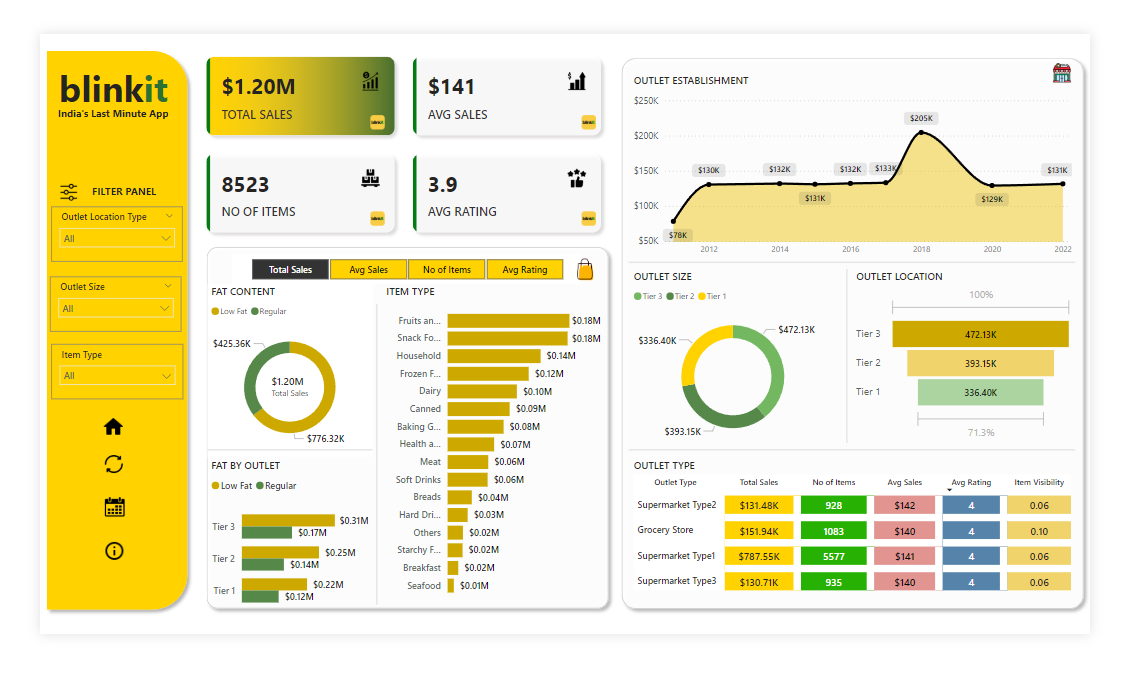

Layout of this report page (visuals, bound fields, positions):
{"tool":"powerbi","page":{"name":"Page 1","canvas":[1400,800],"ordinal":0},"visuals":[{"type":"shape","box":[0,12.7,205.6,763.4],"z":0},{"type":"textbox","box":[13.4,33.5,168.9,73.7],"z":1000},{"type":"textbox","box":[18.8,91.2,158.2,52.3],"z":2000},{"type":"textbox","box":[252,622,205.1,77.7],"z":3000},{"type":"cardVisual","fields":{"Data":["BlinkIT Grocery Data.Total Sales","BlinkIT Grocery Data.Avg Sales","BlinkIT Grocery Data.No of Items","BlinkIT Grocery Data.Avg Rating"]},"box":[205.6,12.7,560.6,269],"z":4000},{"type":"shape","box":[213.1,274.8,553.6,500],"z":5000},{"type":"donutChart","title":"FAT CONTENT","fields":{"Y":["BlinkIT Grocery Data.Total Sales"],"Category":["BlinkIT Grocery Data.Item Fat Content"]},"box":[222.5,333.8,219.8,230.6],"z":6000},{"type":"slicer","fields":{"Values":["Metrics.Metrics"]},"box":[257.4,293.6,465.1,40.2],"z":7000},{"type":"cardVisual","fields":{"Data":["BlinkIT Grocery Data.Total Sales"]},"box":[292.2,437,97.9,52.3],"z":8000},{"type":"clusteredBarChart","title":"FAT BY OUTLET","fields":{"Y":["BlinkIT Grocery Data.Total Sales"],"Category":["BlinkIT Grocery Data.Outlet Location Type"],"Series":["BlinkIT Grocery Data.Item Fat Content"]},"box":[222.5,564.3,219.8,217.2],"z":9000},{"type":"shape","box":[222.5,545.6,219.8,18.8],"z":10000},{"type":"shape","box":[442.4,359.3,14.7,400.8],"z":11000},{"type":"barChart","title":"ITEM TYPE","fields":{"Y":["BlinkIT Grocery Data.Total Sales"],"Category":["BlinkIT Grocery Data.Item Type"]},"box":[457.1,333.8,296.2,426.3],"z":12000},{"type":"shape","box":[766.2,22.5,633.8,752.1],"z":13000},{"type":"lineChart","title":"OUTLET ESTABLISHMENT","fields":{"Y":["BlinkIT Grocery Data.Total Sales"],"Category":["BlinkIT Grocery Data.Outlet Establishment Year"]},"box":[785.9,52.1,594.4,252.1],"z":14000},{"type":"shape","box":[785.5,294.9,595.2,18.8],"z":15000},{"type":"donutChart","title":"OUTLET SIZE","fields":{"Y":["BlinkIT Grocery Data.Total Sales"],"Category":["BlinkIT Grocery Data.Outlet Location Type"]},"box":[785.9,312.7,274.6,242.3],"z":16000},{"type":"shape","box":[1068.4,313.7,14.7,231.9],"z":17000},{"type":"funnel","title":"OUTLET LOCATION","fields":{"Y":["Sum(BlinkIT Grocery Data.Sales)"],"Category":["BlinkIT Grocery Data.Outlet Location Type"]},"box":[1083.1,312.7,298.6,233.8],"z":18000},{"type":"shape","box":[785.5,545.6,595.2,18.8],"z":19000},{"type":"pivotTable","title":"OUTLET TYPE","fields":{"Rows":["BlinkIT Grocery Data.Outlet Type"],"Values":["BlinkIT Grocery Data.Total Sales","BlinkIT Grocery Data.No of Items","BlinkIT Grocery Data.Avg Sales","BlinkIT Grocery Data.Avg Rating","Avg(BlinkIT Grocery Data.Item Visibility)"]},"box":[785.9,564.8,594.4,195.8],"z":20000},{"type":"slicer","fields":{"Values":["BlinkIT Grocery Data.Outlet Location Type"]},"box":[14.4,230.5,175.4,73.7],"z":21000},{"type":"slicer","fields":{"Values":["BlinkIT Grocery Data.Outlet Size"]},"box":[13.6,322.9,175.4,73.7],"z":22000},{"type":"slicer","fields":{"Values":["BlinkIT Grocery Data.Item Type"]},"box":[14.4,412.7,176.3,73.7],"z":23000},{"type":"textbox","box":[59.3,195.8,104.2,33.9],"z":24000},{"type":"image","box":[18.6,195.8,40.7,32.2],"z":25000},{"type":"image","box":[75.4,505.1,44.9,38.1],"z":26000},{"type":"image","box":[81.7,554.9,33.8,36.6],"z":27000},{"type":"image","box":[81.4,611.9,36.4,37.3],"z":28000},{"type":"image","box":[80.5,670.3,39,39],"z":29000},{"type":"image","box":[700,290.5,52.6,46.3],"z":30000},{"type":"image","box":[431.8,102.7,36.4,29.1],"z":31000},{"type":"image","box":[431.8,230.9,36.4,29.1],"z":32000},{"type":"image","box":[713.2,102.7,36.4,29.1],"z":33000},{"type":"image","box":[713.2,230.9,36.4,29.1],"z":34000},{"type":"image","box":[1345.1,33.8,35.2,36.6],"z":35000}]}

Visuals, with their boxes on the page's 1400x800 design canvas (x1, y1, x2, y2). These are canvas units, not pixel positions in the 1130x673 screenshot, which may show the page scaled, cropped or inside an application window:
shape: crop(0, 13, 206, 776)
textbox: crop(13, 34, 182, 107)
textbox: crop(19, 91, 177, 144)
textbox: crop(252, 622, 457, 700)
cardVisual - BlinkIT Grocery Data.Total Sales x BlinkIT Grocery Data.Avg Sales: crop(206, 13, 766, 282)
shape: crop(213, 275, 767, 775)
"FAT CONTENT" donutChart: crop(222, 334, 442, 564)
slicer - Metrics.Metrics: crop(257, 294, 722, 334)
cardVisual - BlinkIT Grocery Data.Total Sales: crop(292, 437, 390, 489)
"FAT BY OUTLET" clusteredBarChart: crop(222, 564, 442, 782)
shape: crop(222, 546, 442, 564)
shape: crop(442, 359, 457, 760)
"ITEM TYPE" barChart: crop(457, 334, 753, 760)
shape: crop(766, 22, 1400, 775)
"OUTLET ESTABLISHMENT" lineChart: crop(786, 52, 1380, 304)
shape: crop(786, 295, 1381, 314)
"OUTLET SIZE" donutChart: crop(786, 313, 1060, 555)
shape: crop(1068, 314, 1083, 546)
"OUTLET LOCATION" funnel: crop(1083, 313, 1382, 546)
shape: crop(786, 546, 1381, 564)
"OUTLET TYPE" pivotTable: crop(786, 565, 1380, 761)
slicer - BlinkIT Grocery Data.Outlet Location Type: crop(14, 230, 190, 304)
slicer - BlinkIT Grocery Data.Outlet Size: crop(14, 323, 189, 397)
slicer - BlinkIT Grocery Data.Item Type: crop(14, 413, 191, 486)
textbox: crop(59, 196, 164, 230)
image: crop(19, 196, 59, 228)
image: crop(75, 505, 120, 543)
image: crop(82, 555, 116, 592)
image: crop(81, 612, 118, 649)
image: crop(80, 670, 120, 709)
image: crop(700, 290, 753, 337)
image: crop(432, 103, 468, 132)
image: crop(432, 231, 468, 260)
image: crop(713, 103, 750, 132)
image: crop(713, 231, 750, 260)
image: crop(1345, 34, 1380, 70)
